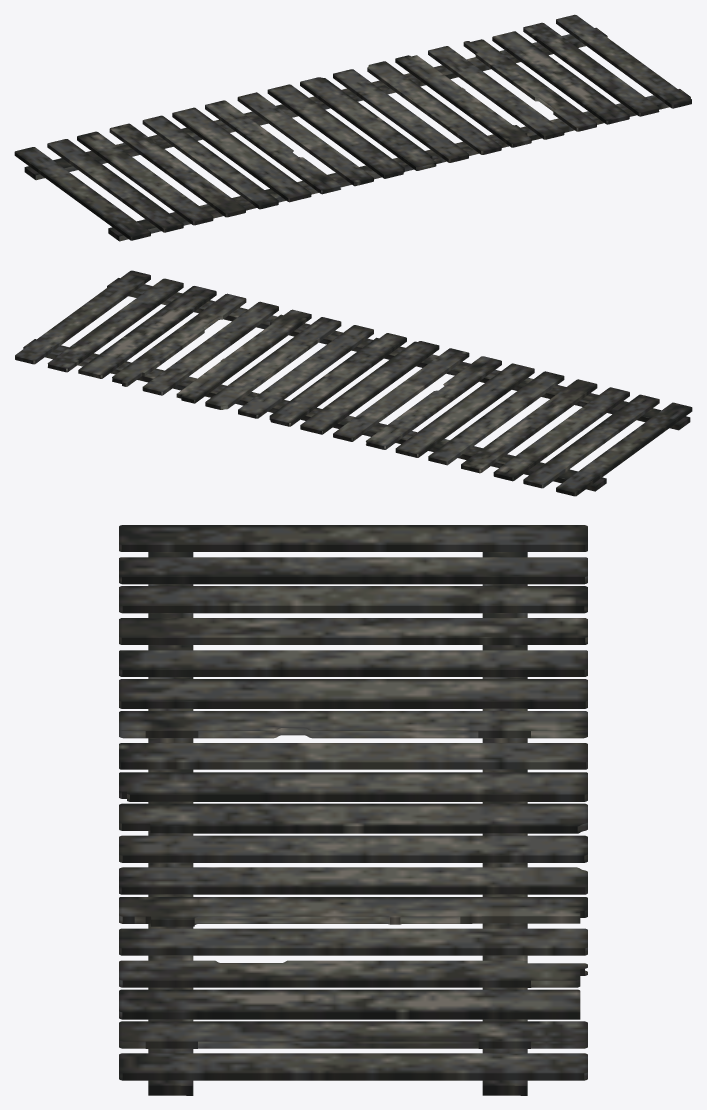
File: SM_EC_Fence_01.fbx
3 views of the same model, one above another, from view 1: azimuth 30°, elevation 25°; view 2: azimuth 150°, elevation 25°; view 3: azimuth 270°, elevation 25° (orthographic). The views are drawn at different scales.
Parts seen in each view (by area): view 1: SM_EC_Fence_01; view 2: SM_EC_Fence_01; view 3: SM_EC_Fence_01.
Boxes of the visible parts, x1,y1,x2,y2 form: SM_EC_Fence_01: [14, 14, 691, 241]; SM_EC_Fence_01: [15, 270, 692, 496]; SM_EC_Fence_01: [119, 525, 587, 1095].
Bounding box in the file's own units: 3 × 1.07 × 0.0425.
